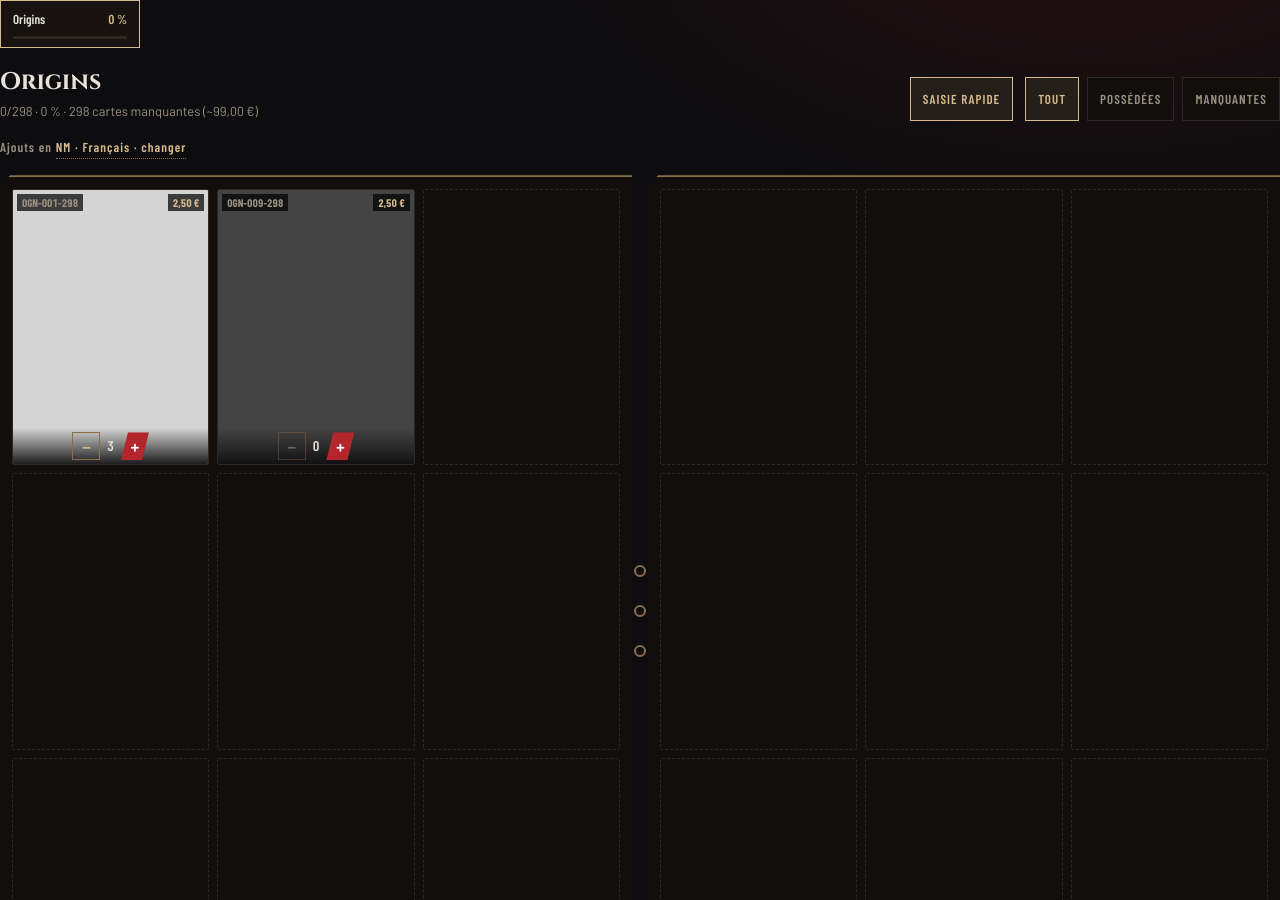
CollectionBinder › saisie rapide › collection vide › désactiver la saisie rapide à 0 possédée ramène l'état vide
Expected: the element showing "− 3 +" is shown, x1=13 y1=428 x2=208 y2=464
Click the button with class "rift-chip" showing "Saisie rapide". click: coordinates (962, 99)
box: x1=910 y1=77 x2=1013 y2=121
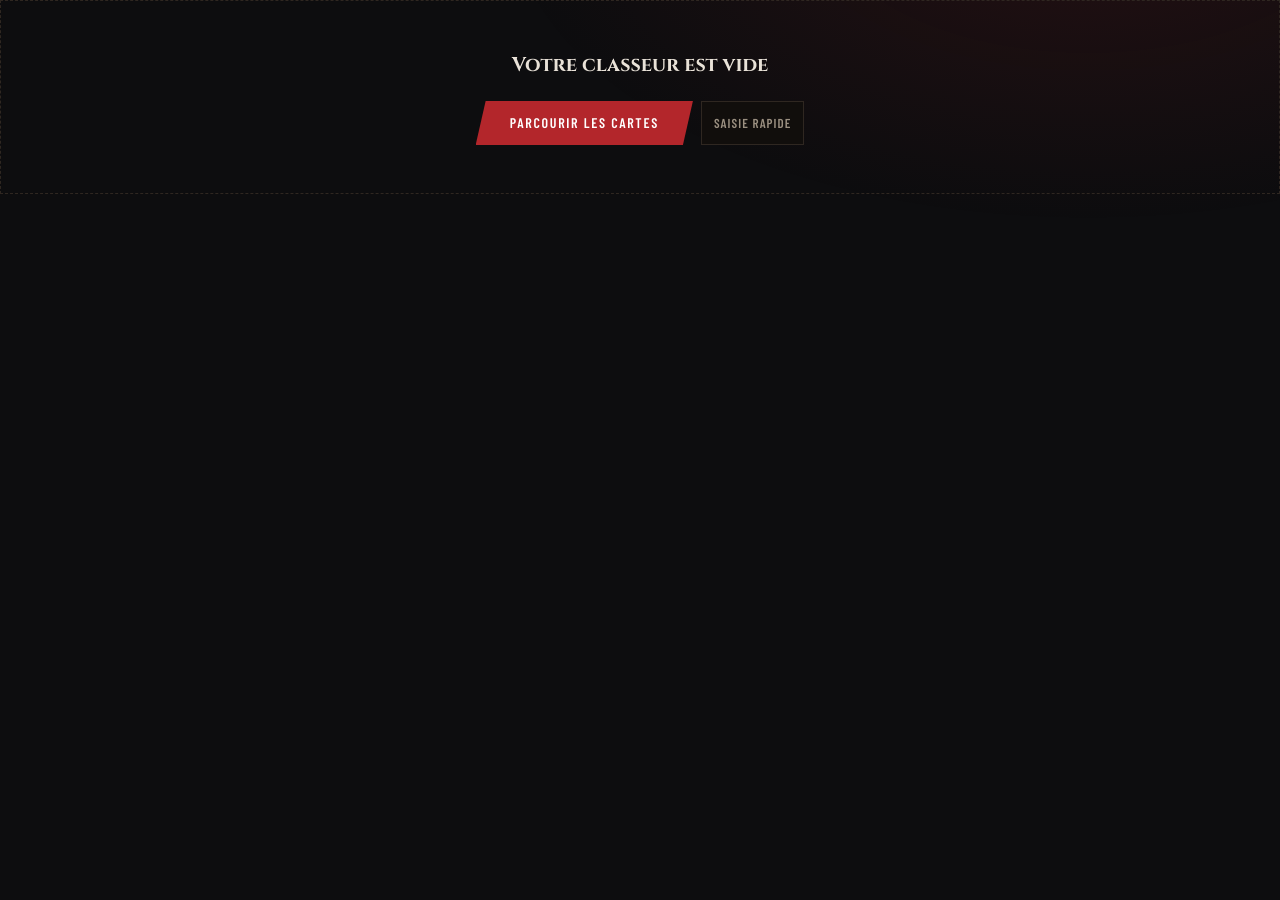
Expected: the text "Votre classeur est vide" is shown, x1=512 y1=49 x2=768 y2=81
